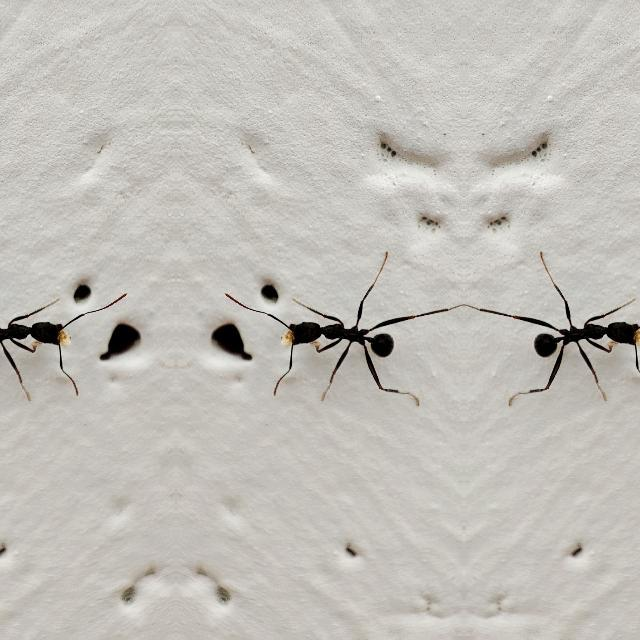Apheanogaster: (261, 249, 414, 413), (512, 249, 640, 413), (0, 249, 88, 413)
